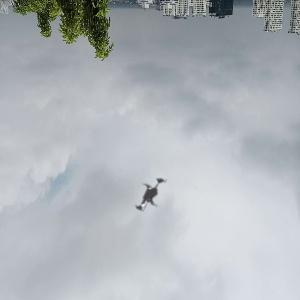drone: (108, 155, 188, 235)
